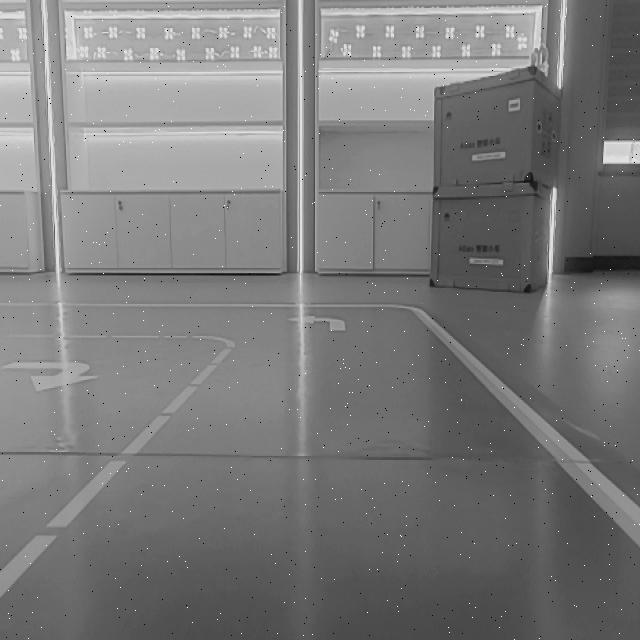left_lane: (0, 347, 225, 601)
right_lane: (420, 313, 640, 548)
